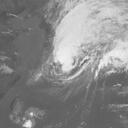cyclone: (51, 26, 91, 82)
